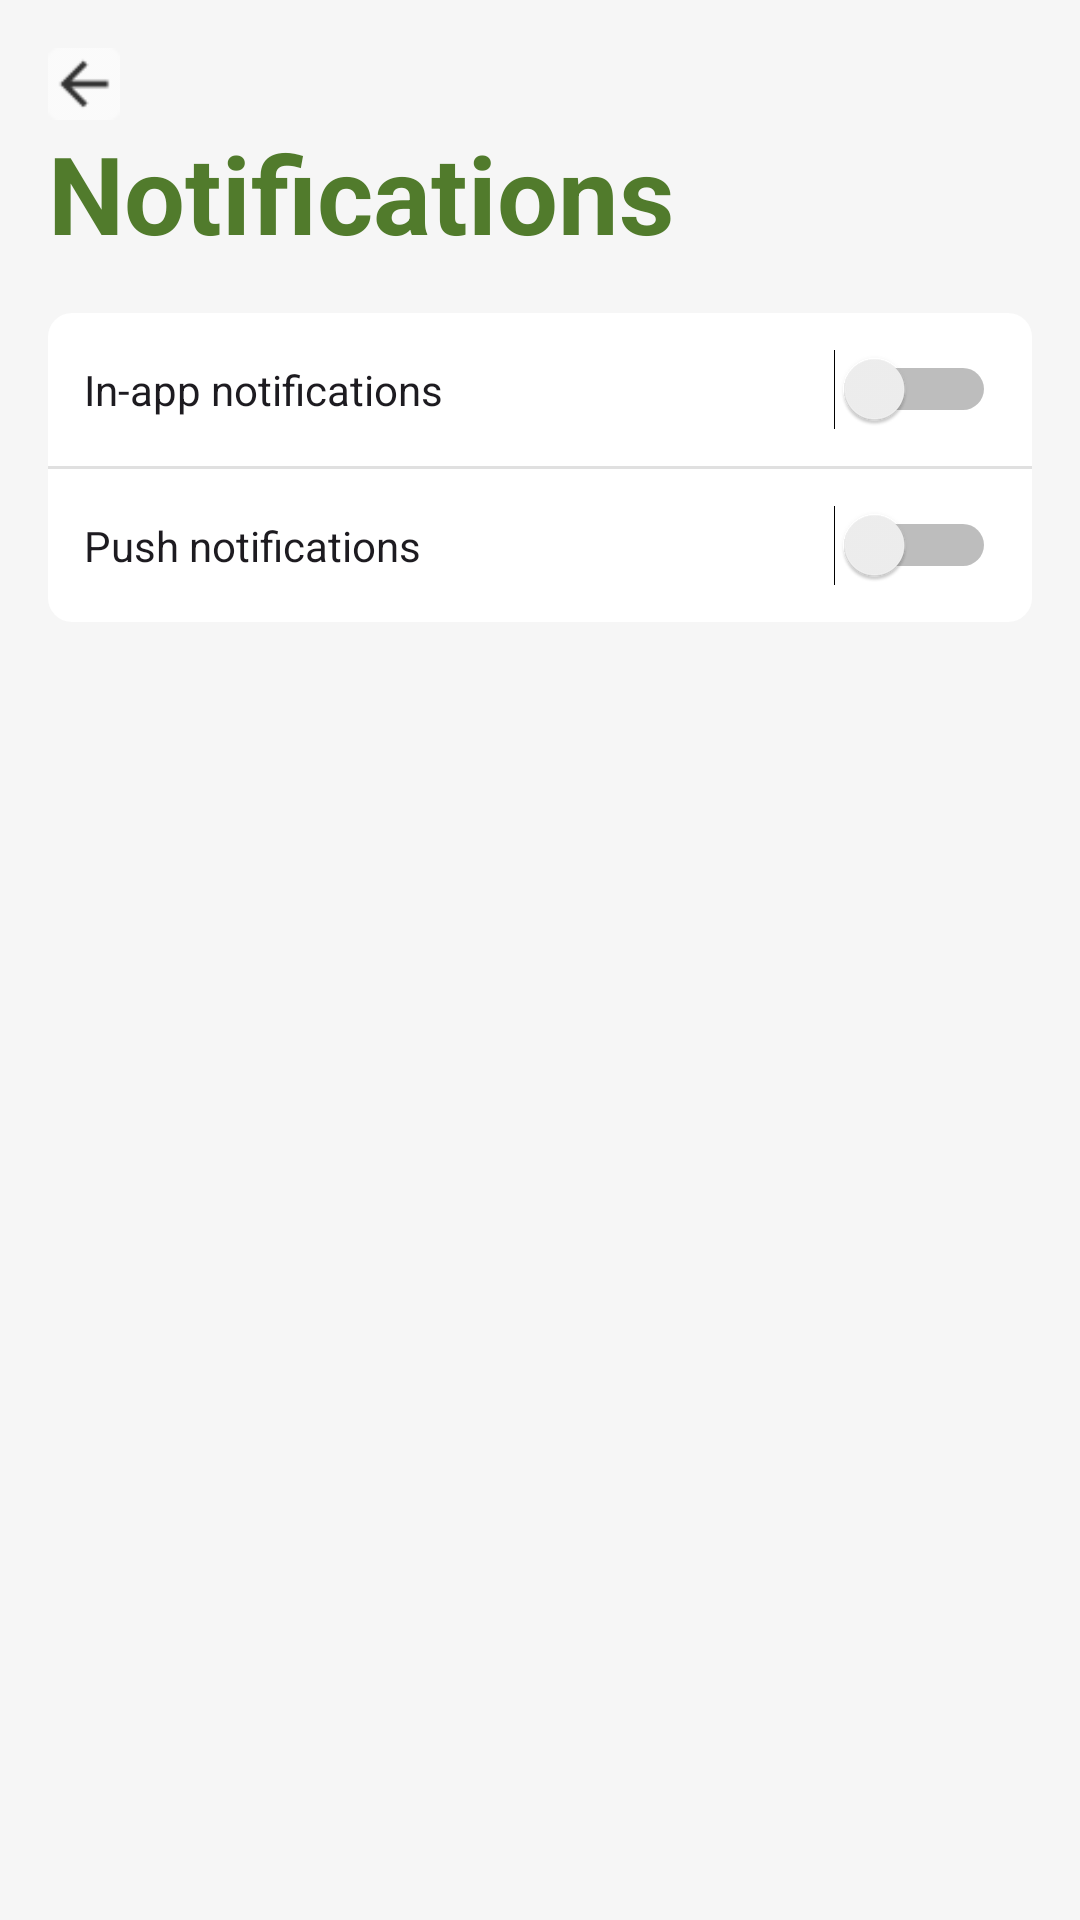

Locate icon controls on the screen. Image size 1080x1920, boxes as (x1, y1, x2, y2).
Back Button: (60, 60, 109, 107)
